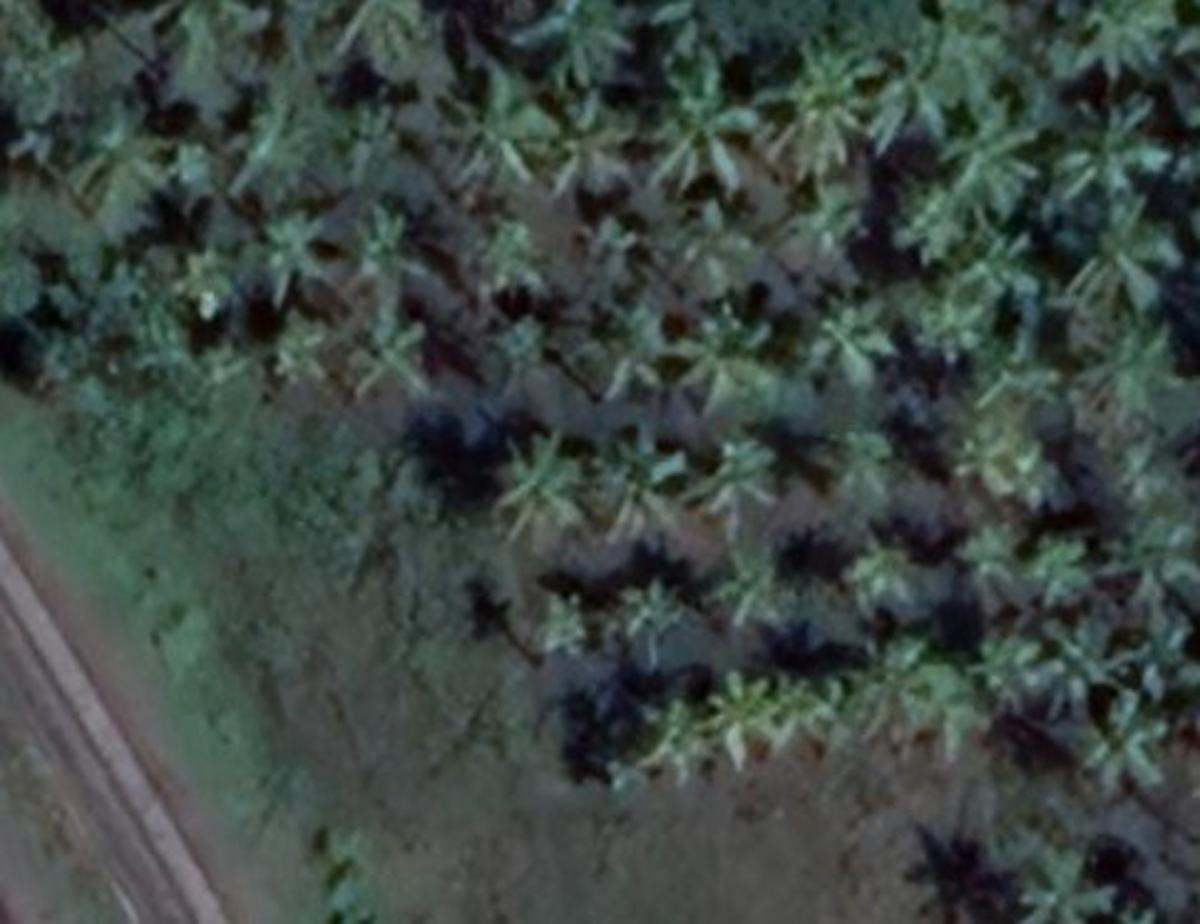coconut: (1040, 91, 1177, 226), (650, 52, 772, 203), (772, 57, 884, 203), (869, 635, 976, 755), (1075, 203, 1182, 322), (1103, 494, 1200, 625), (680, 310, 792, 422), (576, 434, 693, 541), (539, 89, 640, 211), (936, 116, 1043, 231), (439, 69, 546, 181), (1048, 2, 1175, 94), (1083, 317, 1175, 442), (862, 52, 961, 168), (511, 2, 638, 89), (973, 317, 1068, 432), (223, 94, 320, 203), (245, 201, 335, 317), (332, 89, 427, 196), (1083, 697, 1175, 807), (161, 231, 255, 335), (484, 437, 571, 548), (342, 201, 434, 305), (703, 665, 782, 782), (814, 295, 904, 394), (951, 235, 1050, 322), (708, 427, 787, 534), (829, 521, 916, 616), (700, 553, 787, 645), (526, 581, 606, 675), (352, 303, 437, 389), (963, 616, 1043, 707), (1026, 519, 1100, 616), (626, 695, 708, 782), (608, 310, 688, 397), (814, 427, 896, 509), (611, 578, 685, 668), (792, 665, 867, 752), (581, 208, 660, 290), (161, 136, 243, 211), (946, 524, 1013, 608), (481, 317, 554, 389)
